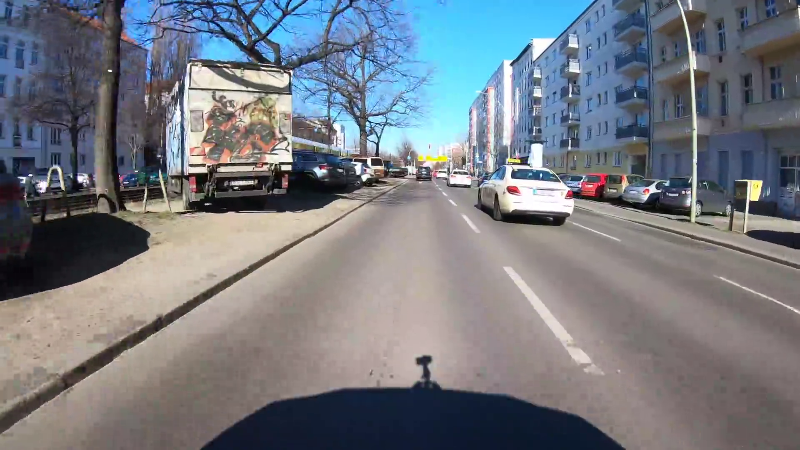Plate: (227, 177, 256, 187), (530, 188, 557, 196)
